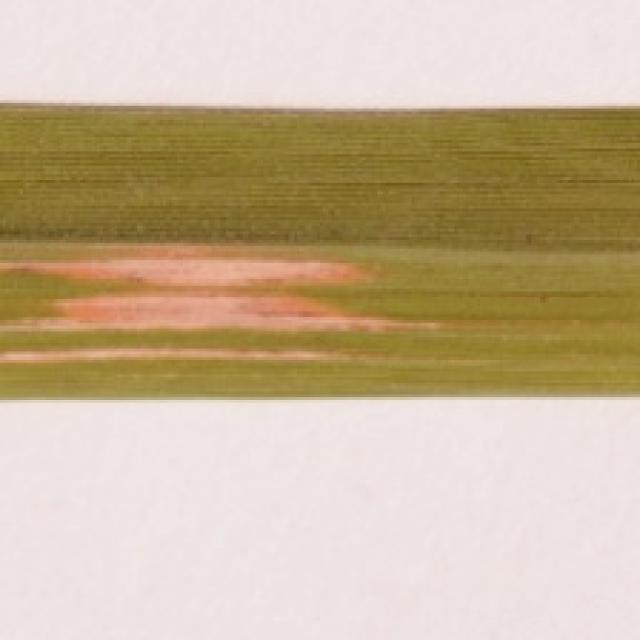Unhealthy: (0, 244, 460, 335), (0, 347, 393, 365)
